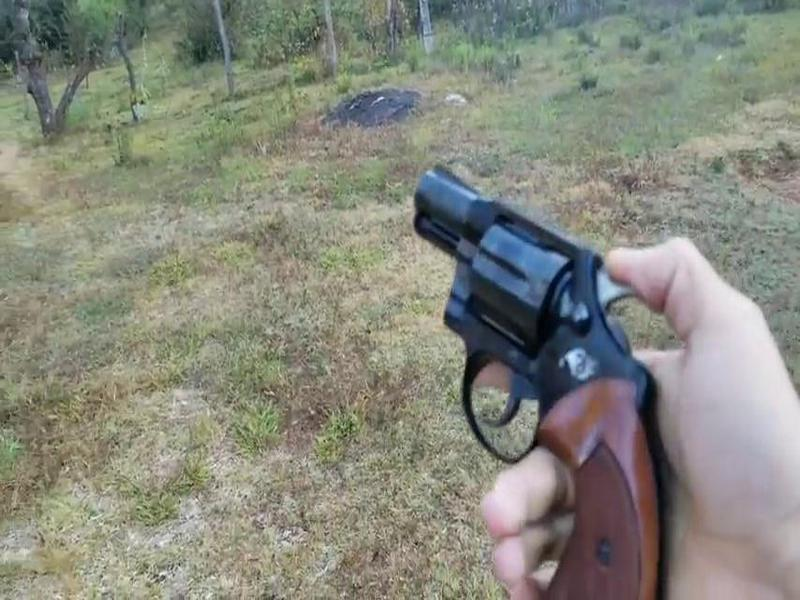Revolver: (407, 141, 669, 600)
